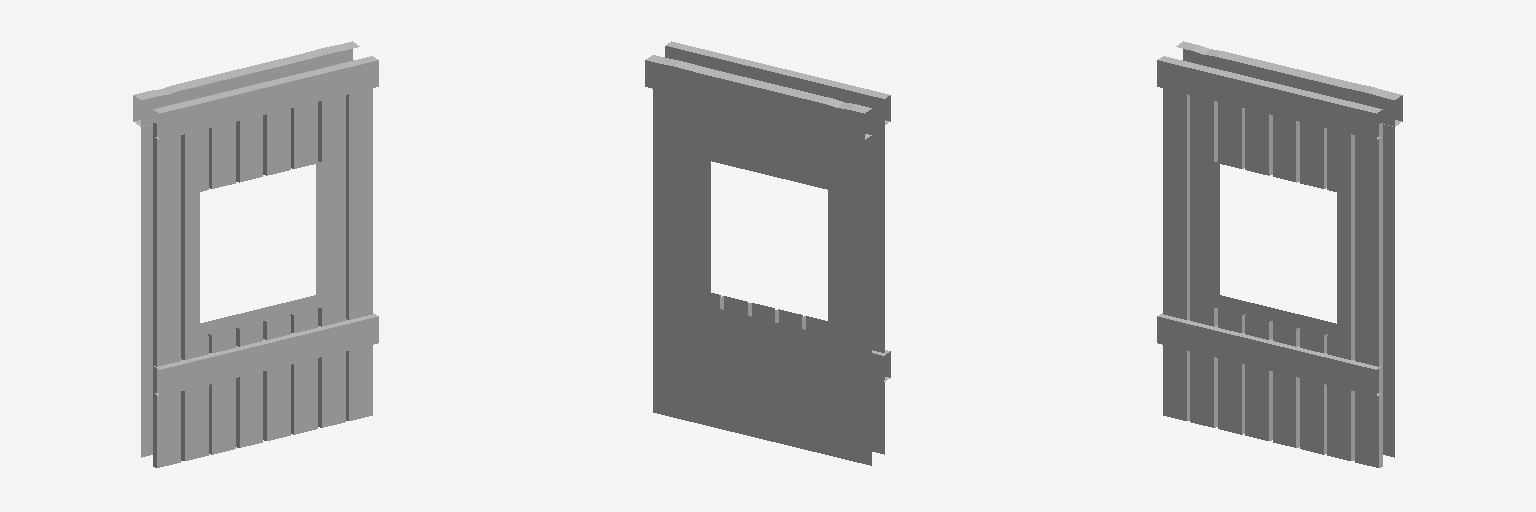
Rendered from Wall_WoodWear_Window_Wide_Flat.obj.
3 renders of one model, left to right at view 1: azimuth 30°, elevation 25°; view 2: azimuth 150°, elevation 25°; view 3: azimuth 330°, elevation 25°, orthographic.
Parts seen in each view (by area): view 1: Wall_WoodWear_Window_Wide_Flat; view 2: Wall_WoodWear_Window_Wide_Flat; view 3: Wall_WoodWear_Window_Wide_Flat.
Boxes of the visible parts, x1=… form: Wall_WoodWear_Window_Wide_Flat: x1=133, y1=41, x2=378, y2=467; Wall_WoodWear_Window_Wide_Flat: x1=645, y1=41, x2=890, y2=465; Wall_WoodWear_Window_Wide_Flat: x1=1157, y1=41, x2=1402, y2=467.
Bounding box in the file's own units: 2 × 3.12 × 0.4065.